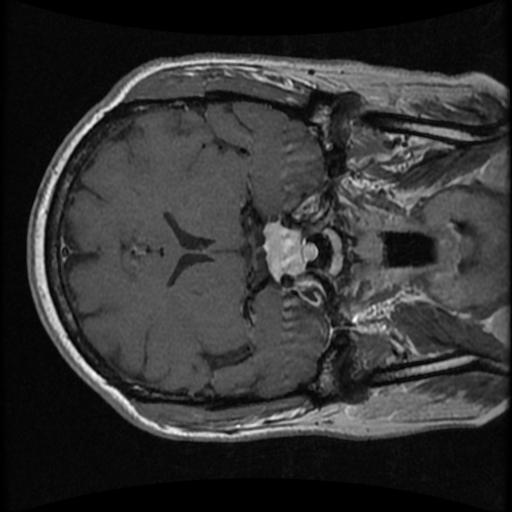pituitary tumour: (262, 220, 319, 279)
